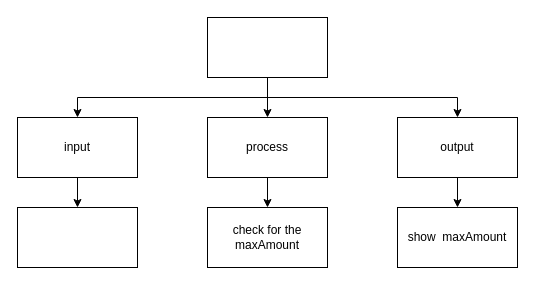
This 535x285 diagram has some shape labels left out. The shapes that lost their labels are listed below. From the top down, each one's box as (x1, y1, x2, y2) in pixels, then its label:
(206, 16, 328, 78): runCalculator
(16, 206, 138, 268): get input
